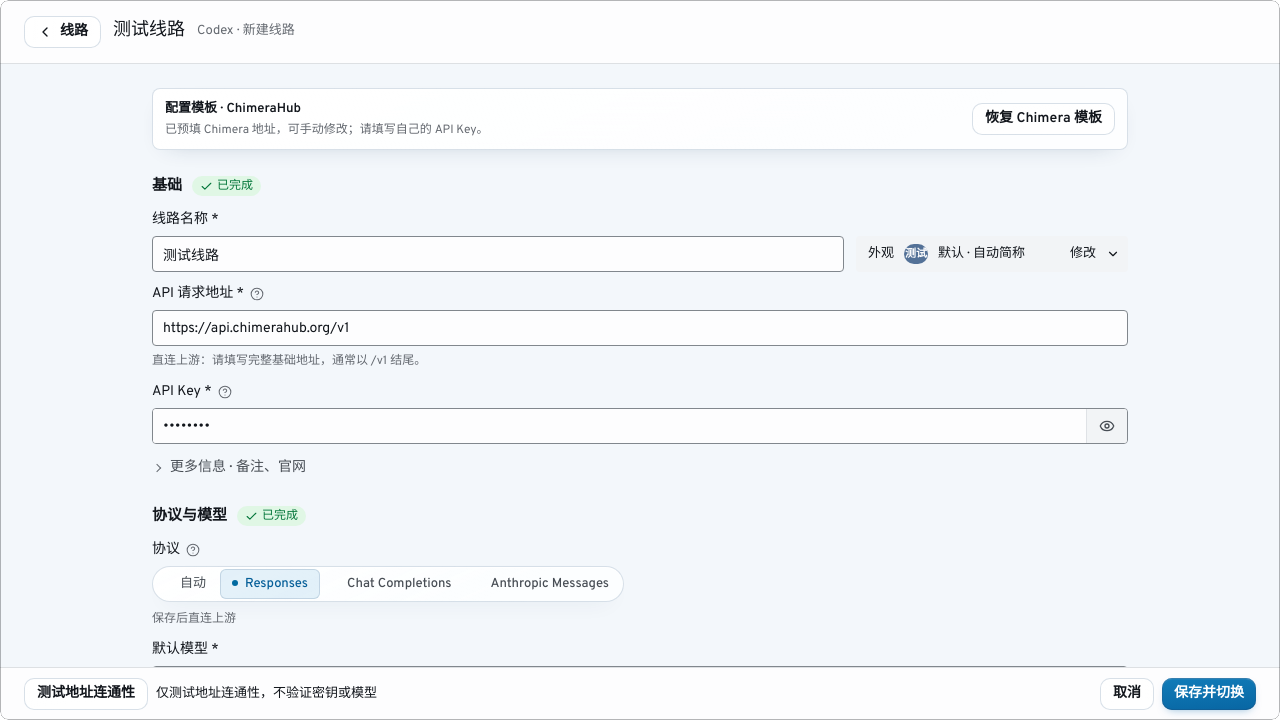
Test case: full-page provider editor › requires confirmation to restore a template and Escape only closes that dialog
Click the button "恢复 Chimera 模板" at (1044, 119), box [972,103,1115,135]
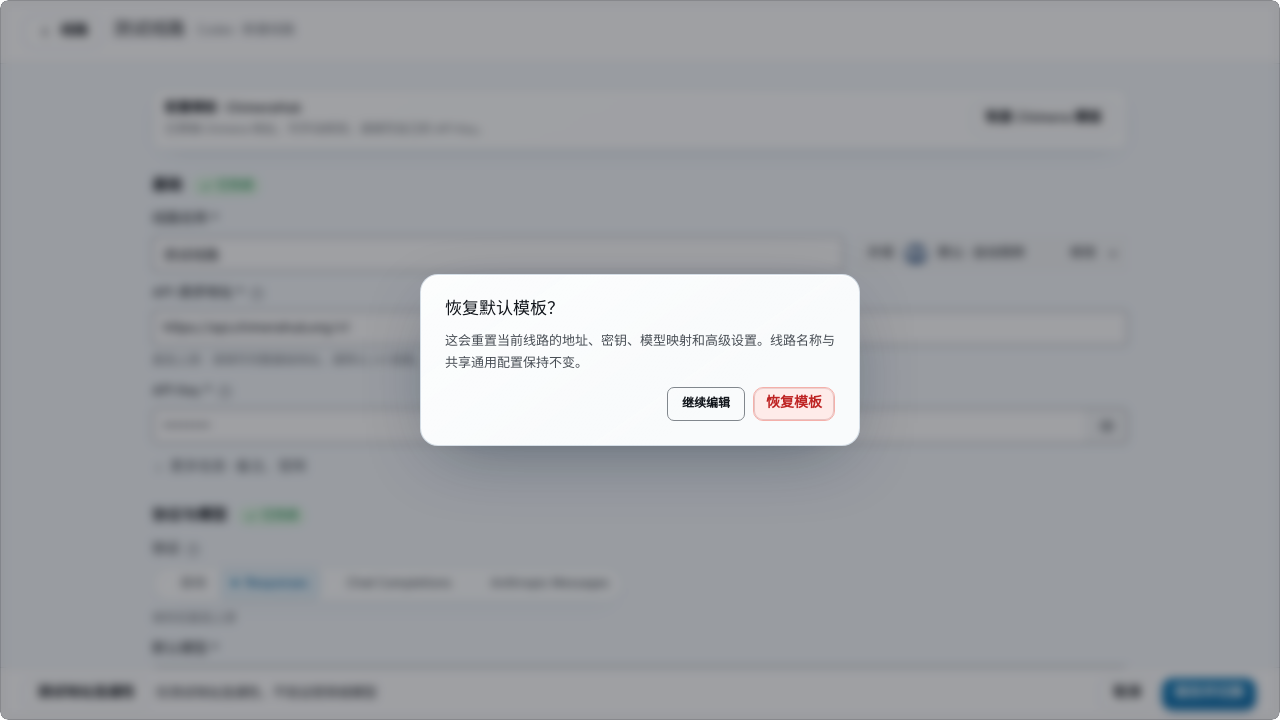
expect the text "这会重置当前线路的地址、密钥、模型映射和高级设置。线路名称与共享通用配置保持不变。" is shown: met, box [445,331,835,375]
Press Escape
(page scrolled)
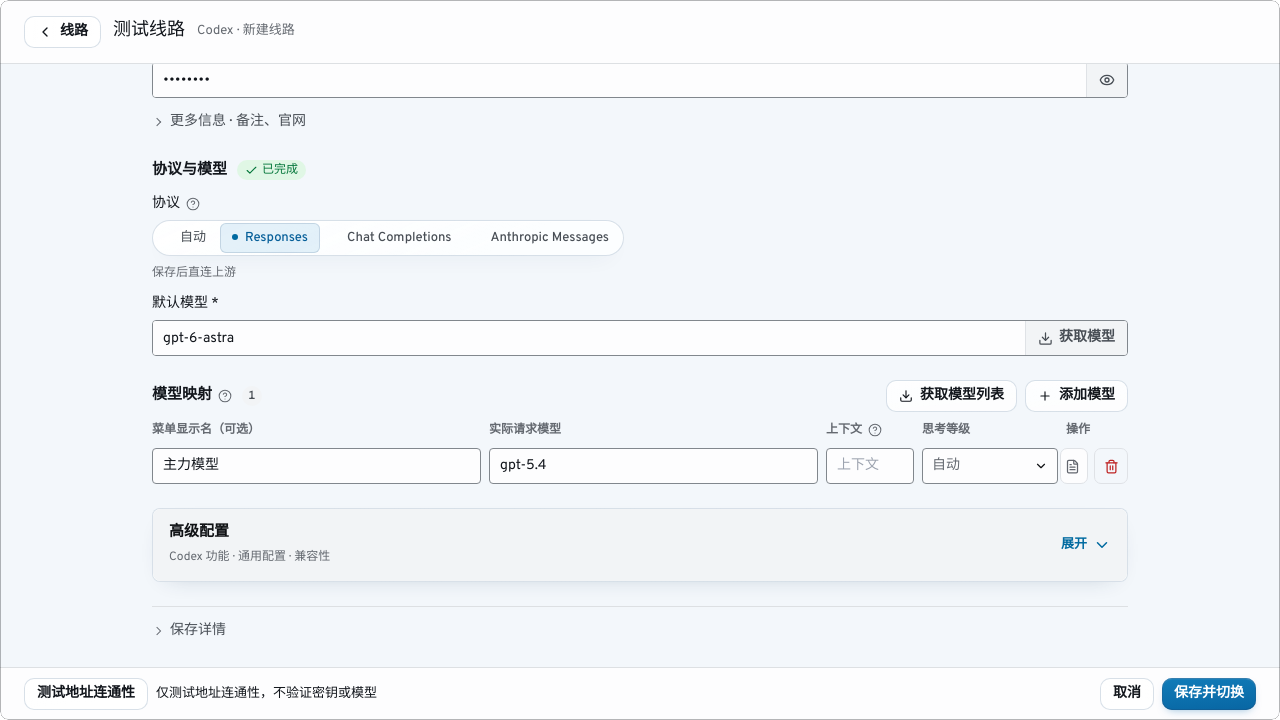
expect the dialog is gone: met
expect the field named "模型 1 显示名" holds "主力模型": met, box [152,448,481,484]
